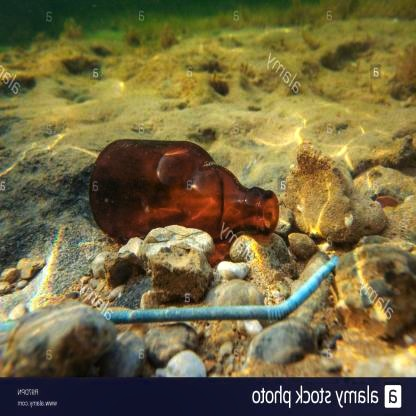gbottle: (90, 139, 281, 242)
plastic: (104, 256, 340, 327)
